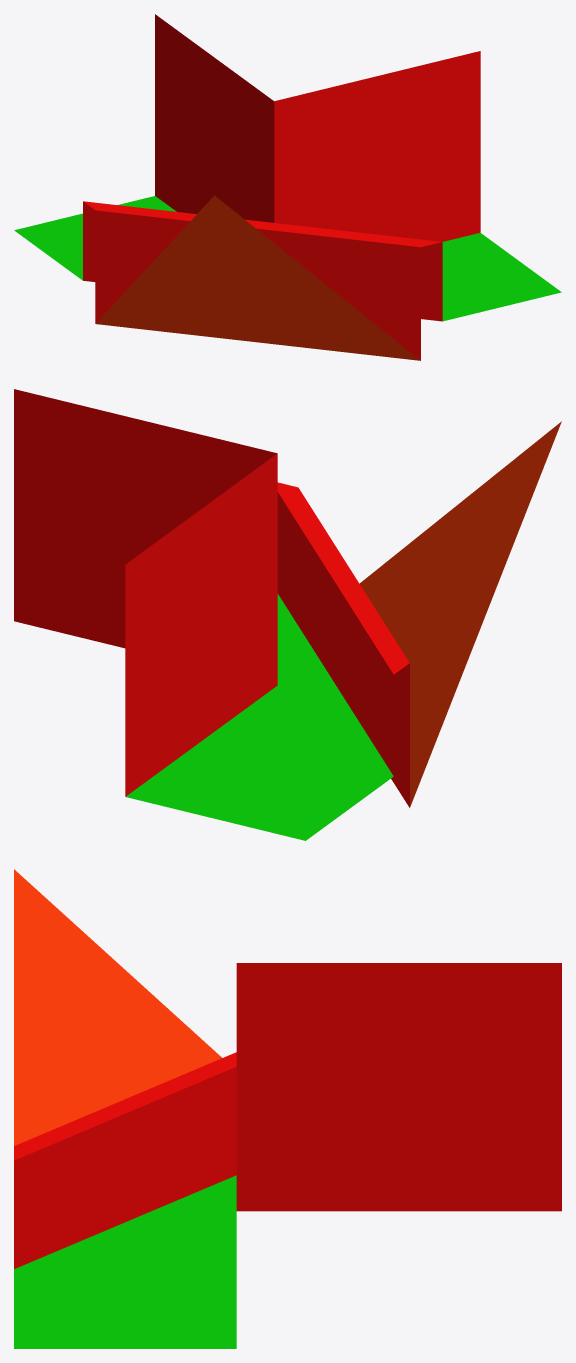
3 renders of one model, top to bottom at view 1: azimuth 30°, elevation 25°; view 2: azimuth 150°, elevation 25°; view 3: azimuth 270°, elevation 25°, orthographic. The views are drawn at different scales.
Visible parts, largest first — view 1: None_A_W_A_E_W_S_E_E_None; view 2: None_A_W_A_E_W_S_E_E_None; view 3: None_A_W_A_E_W_S_E_E_None.
Boxes of the visible parts, <box> form: None_A_W_A_E_W_S_E_E_None: <box>14,14,561,360</box>; None_A_W_A_E_W_S_E_E_None: <box>14,389,561,840</box>; None_A_W_A_E_W_S_E_E_None: <box>14,869,561,1348</box>.
Bounding box in the file's own units: 100 × 59.38 × 100.
